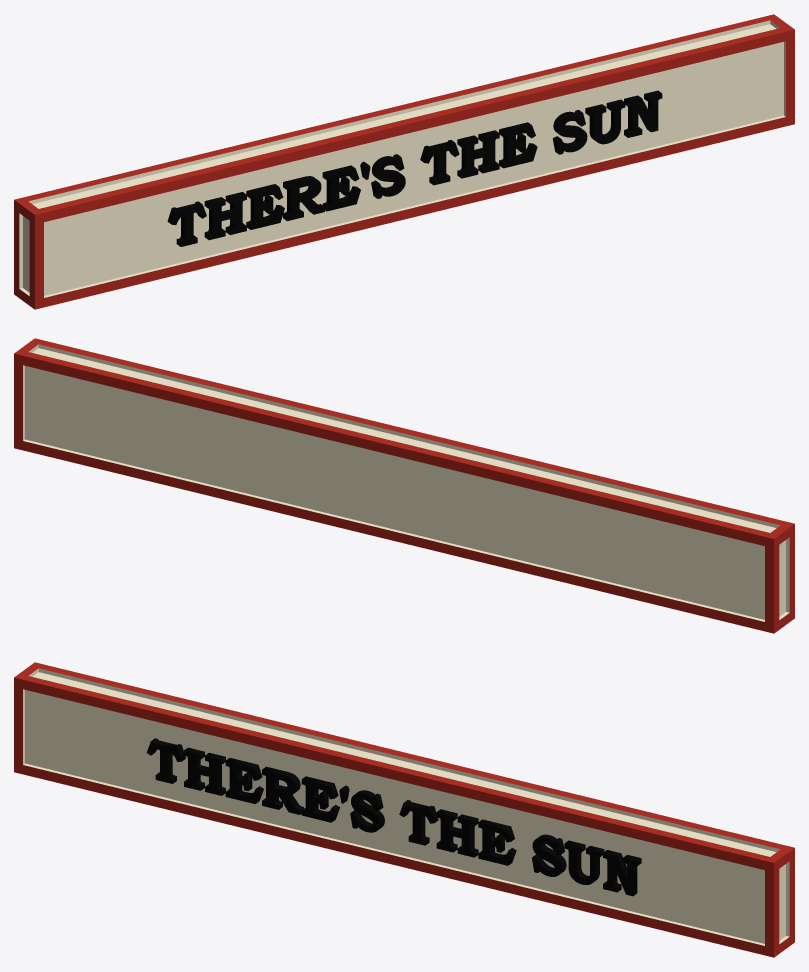
The model's file is theresTheSun.glb.
The picture shows the model from 3 angles, top to bottom: view 1: azimuth 30°, elevation 25°; view 2: azimuth 150°, elevation 25°; view 3: azimuth 330°, elevation 25°; orthographic projection.
Parts seen in each view (by area): view 1: Button.010, Text.009; view 2: Button.010; view 3: Button.010, Text.009.
Part boxes in pixels (box(x1,y1,x2,y2)): Button.010: box(14, 14, 794, 309); Text.009: box(167, 90, 662, 246); Button.010: box(14, 338, 794, 633); Button.010: box(14, 662, 794, 957); Text.009: box(146, 738, 641, 896).
Bounding box in the file's own units: 10.5 × 1.25 × 0.5501.
